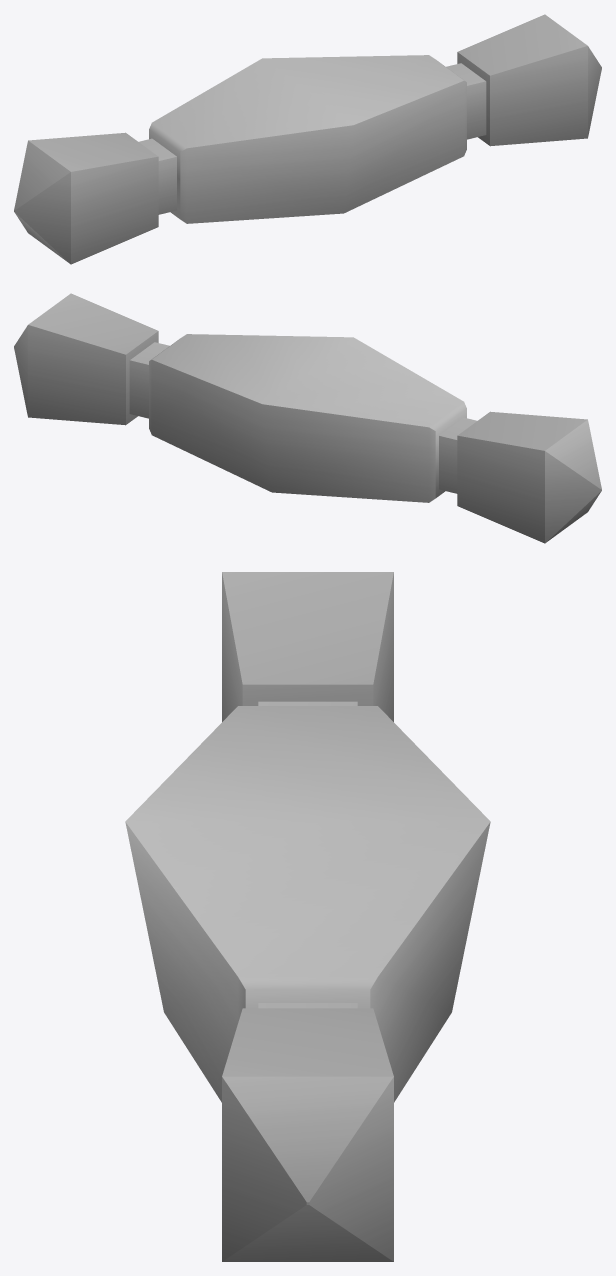
File: stone_guard_055.glb
The picture shows the model from 3 angles, top to bottom: view 1: azimuth 30°, elevation 25°; view 2: azimuth 150°, elevation 25°; view 3: azimuth 270°, elevation 25°; orthographic projection. The views are drawn at different scales.
Parts seen in each view (by area): view 1: stone_guard.055; view 2: stone_guard.055; view 3: stone_guard.055.
Part boxes in pixels (x1,y1,x2,y2): stone_guard.055: [14, 14, 601, 264]; stone_guard.055: [14, 293, 601, 543]; stone_guard.055: [125, 572, 490, 1261].
Size of the model in its own units: 9.16 by 1.42 by 2.47.
Materials: 1 (1 with a texture image).
